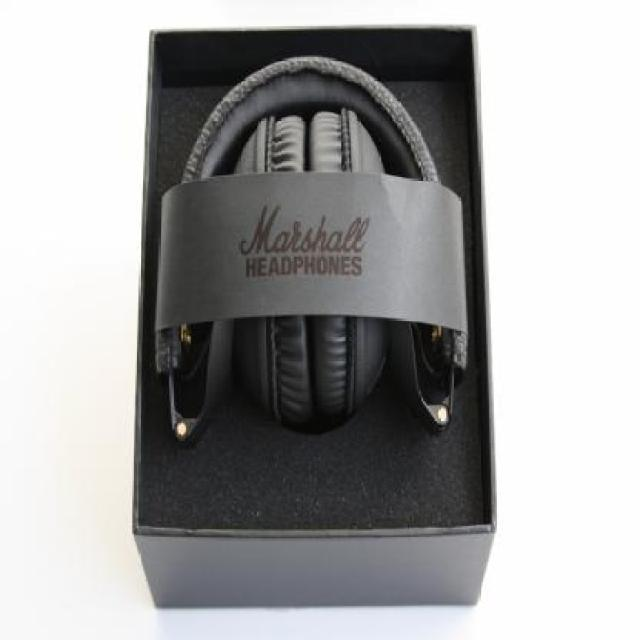earphone: (150, 45, 497, 480)
